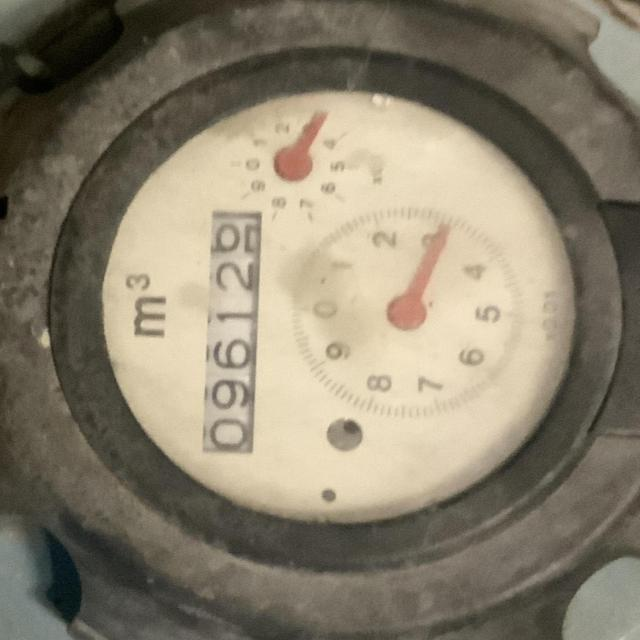gaz_meter: (42, 43, 614, 578)
indication: (198, 204, 264, 457)
